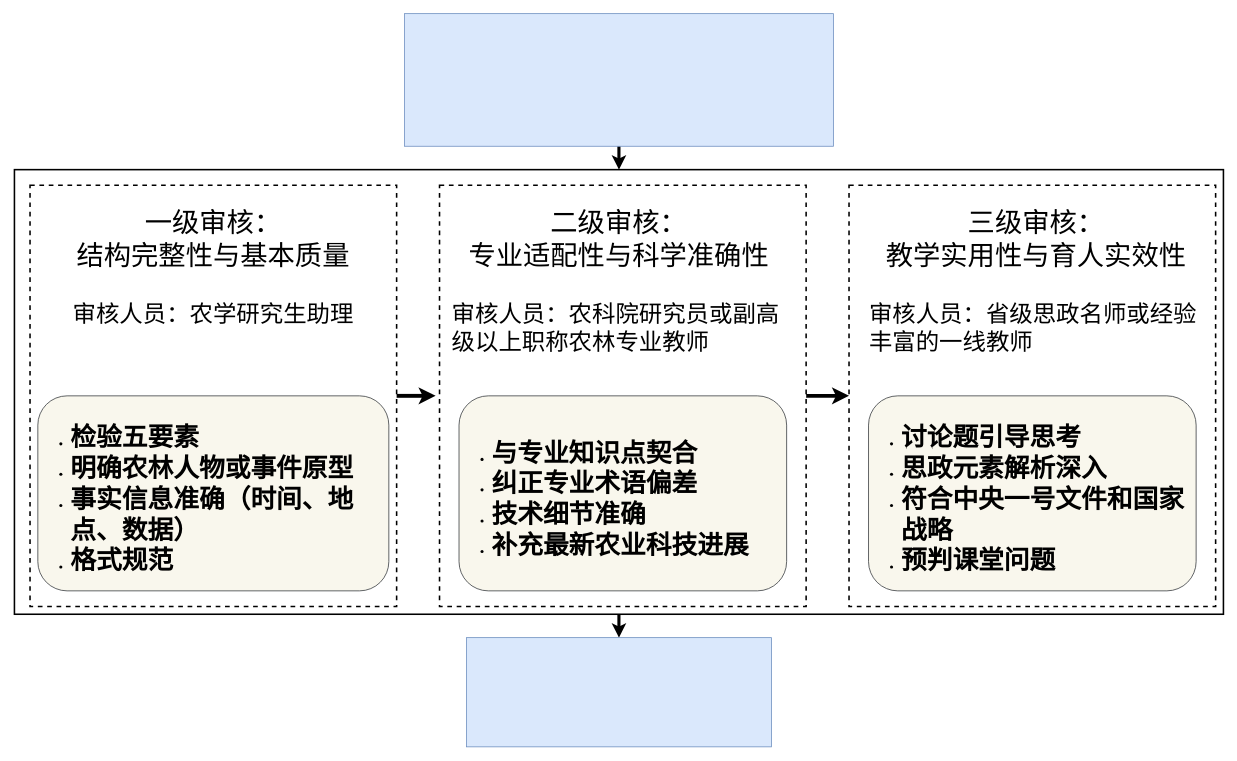
Some shapes in this 1237 by 761 pixel diagram are drawn without their labels. The shapes that lost their labels are listed below. From the top down, each one's centre as x and y in pixels, then its label:
At (618,79): "AI辅助生成案例初稿 ChatGPT/文心一言 结构化提示词模板→五要素格式输出".
At (618,692): "正式入库 供教师检索使用 配套教学设计与讨论题".
